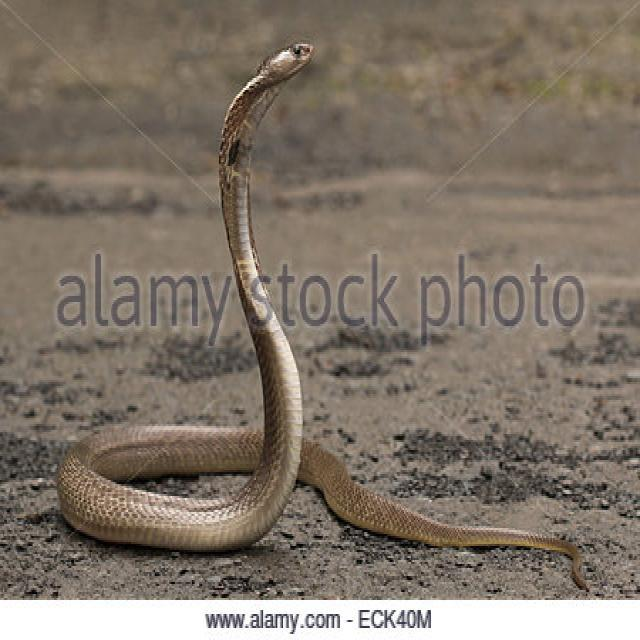Snake: (55, 38, 589, 590)
